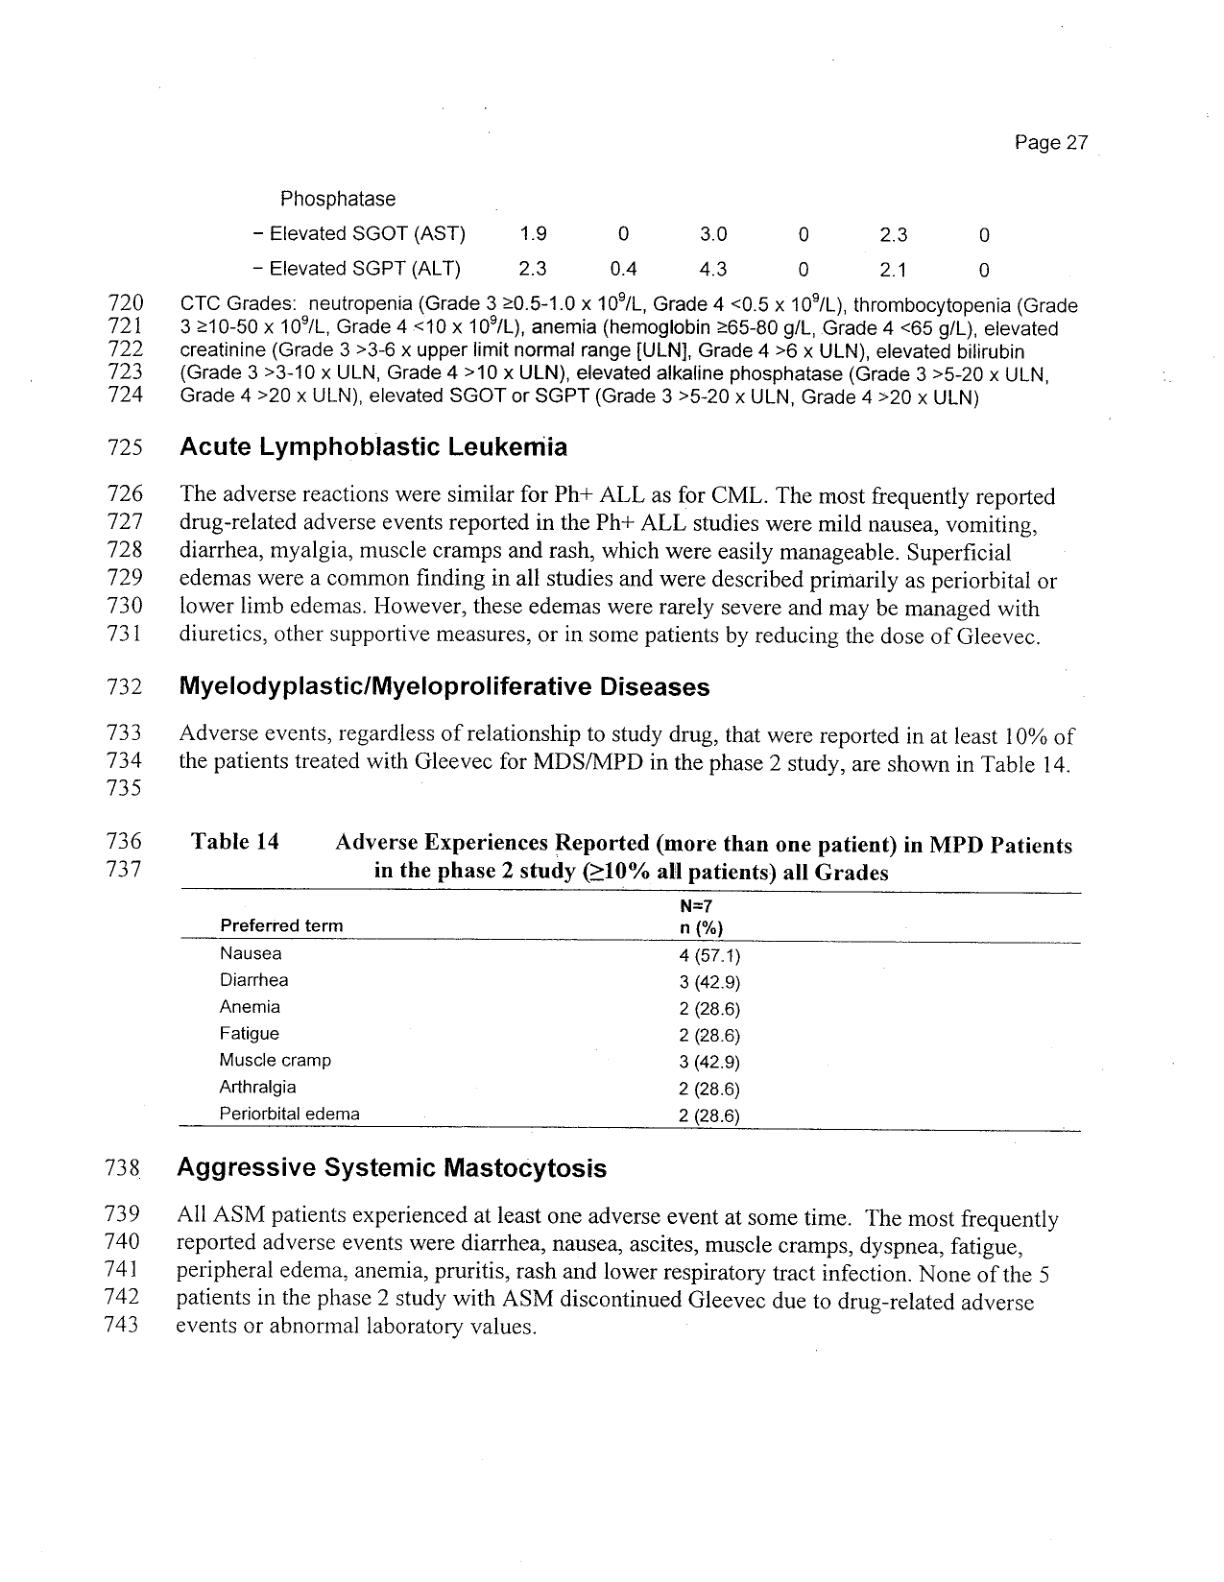nolines: (249, 176, 997, 282)
partial_lined: (179, 886, 1081, 1133)
